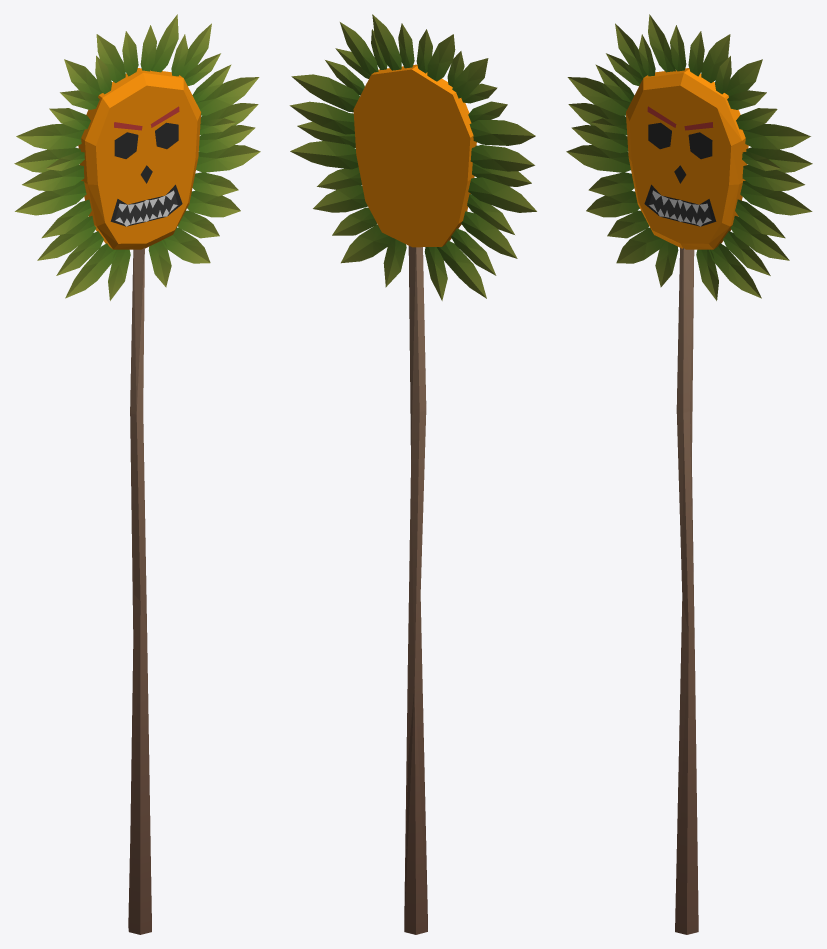
The model's file is Mask_01.fbx.
3 views of the same model, side by side, from view 1: azimuth 30°, elevation 25°; view 2: azimuth 150°, elevation 25°; view 3: azimuth 330°, elevation 25° (orthographic).
Visible parts, largest first — view 1: Mask_01; view 2: Mask_01; view 3: Mask_01.
Boxes of the visible parts, bbox=[...] form: Mask_01: bbox=[14, 14, 260, 934]; Mask_01: bbox=[289, 14, 536, 934]; Mask_01: bbox=[566, 14, 812, 934].
Bounding box in the file's own units: 43.94 × 154 × 3.84.
